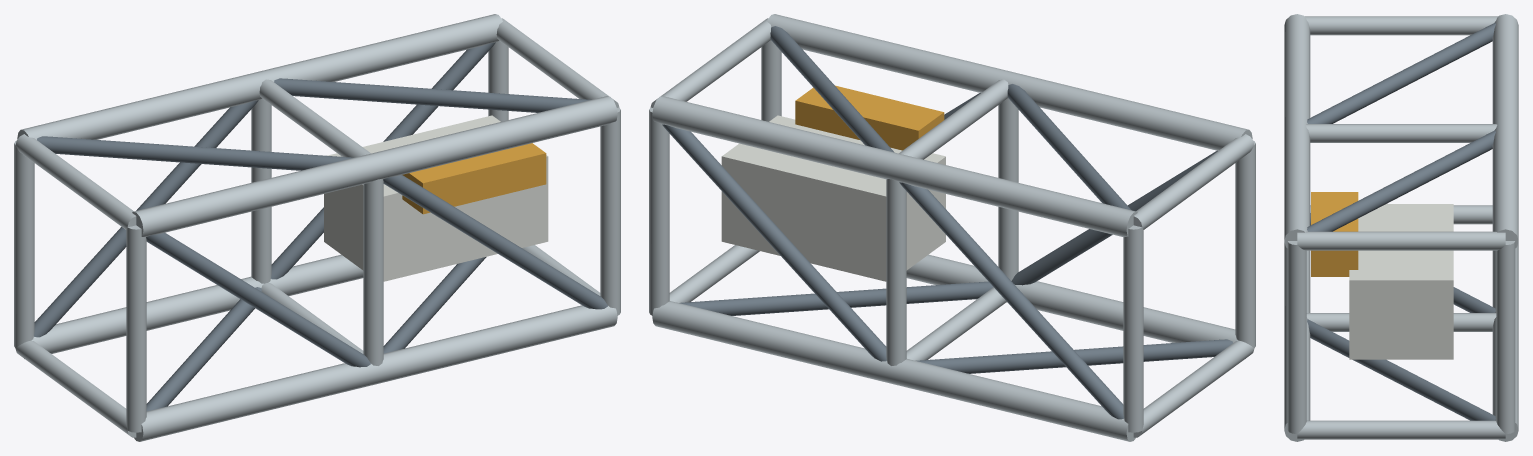
File: iss_truss.p6.glb
The picture shows the model from 3 angles, left to right: view 1: azimuth 30°, elevation 25°; view 2: azimuth 150°, elevation 25°; view 3: azimuth 270°, elevation 25°; orthographic projection. The views are drawn at different scales.
Parts seen in each view (by area): view 1: iss_truss.p6.mesh_Satin_aluminum, iss_truss.p6.mesh_Machined_steel, iss_truss.p6.mesh_Pale_thermal_blanket, iss_truss.p6.mesh_Gold_thermal_insulation; view 2: iss_truss.p6.mesh_Satin_aluminum, iss_truss.p6.mesh_Machined_steel, iss_truss.p6.mesh_Pale_thermal_blanket, iss_truss.p6.mesh_Gold_thermal_insulation; view 3: iss_truss.p6.mesh_Satin_aluminum, iss_truss.p6.mesh_Pale_thermal_blanket, iss_truss.p6.mesh_Machined_steel, iss_truss.p6.mesh_Gold_thermal_insulation.
Part boxes in pixels (x1=…): iss_truss.p6.mesh_Satin_aluminum: x1=14, y1=14, x2=620, y2=441; iss_truss.p6.mesh_Machined_steel: x1=34, y1=42, x2=607, y2=411; iss_truss.p6.mesh_Pale_thermal_blanket: x1=324, y1=115, x2=548, y2=281; iss_truss.p6.mesh_Gold_thermal_insulation: x1=402, y1=143, x2=546, y2=214; iss_truss.p6.mesh_Satin_aluminum: x1=649, y1=14, x2=1255, y2=441; iss_truss.p6.mesh_Machined_steel: x1=662, y1=26, x2=1232, y2=419; iss_truss.p6.mesh_Pale_thermal_blanket: x1=721, y1=115, x2=945, y2=281; iss_truss.p6.mesh_Gold_thermal_insulation: x1=795, y1=85, x2=944, y2=150; iss_truss.p6.mesh_Satin_aluminum: x1=1284, y1=14, x2=1518, y2=441; iss_truss.p6.mesh_Pale_thermal_blanket: x1=1349, y1=204, x2=1453, y2=359; iss_truss.p6.mesh_Machined_steel: x1=1307, y1=22, x2=1495, y2=420; iss_truss.p6.mesh_Gold_thermal_insulation: x1=1311, y1=192, x2=1358, y2=276.
Bounding box in the file's own units: 4.46 × 1.98 × 1.98.
